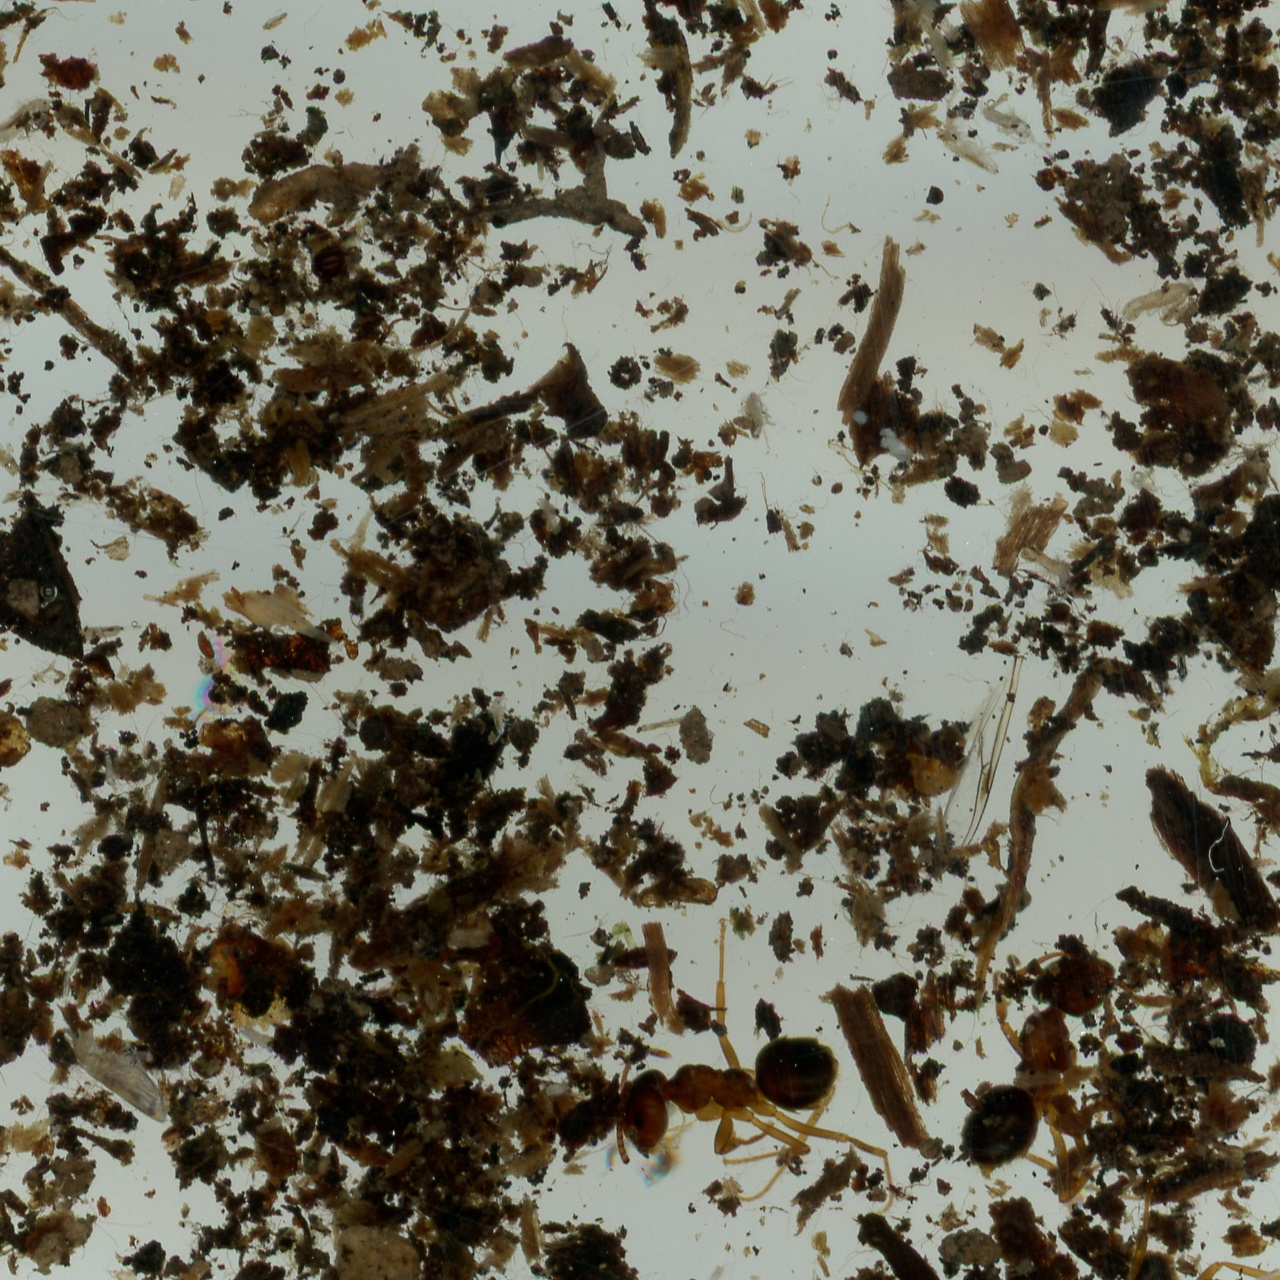arthropod: (568, 893, 896, 1239), (911, 906, 1206, 1230), (985, 1133, 1280, 1280), (42, 990, 197, 1143), (919, 77, 1032, 184), (976, 95, 1055, 162), (1114, 273, 1199, 334), (0, 87, 59, 151), (1019, 544, 1077, 608), (233, 1015, 280, 1063), (1122, 467, 1175, 503), (97, 741, 122, 796), (488, 694, 512, 747), (195, 627, 218, 661), (543, 1080, 576, 1098), (105, 1264, 139, 1280)
